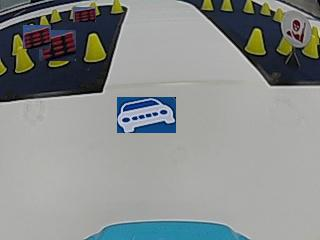evil: (280, 11, 310, 47)
